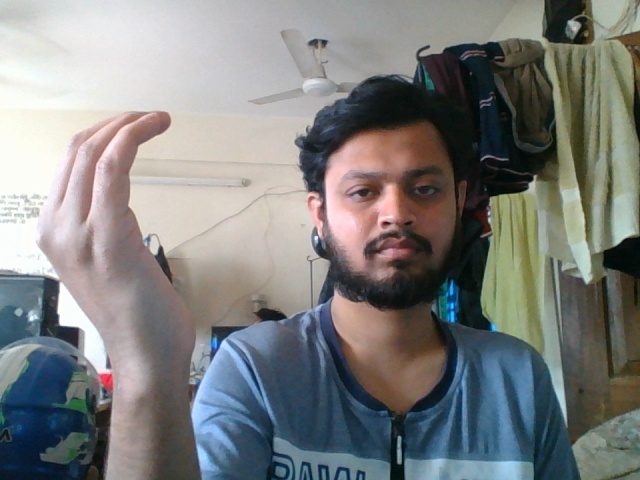ga: (25, 96, 218, 447)
